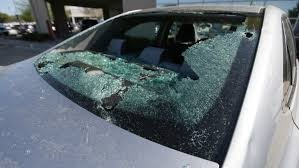Broken-glass: (34, 13, 261, 126)
